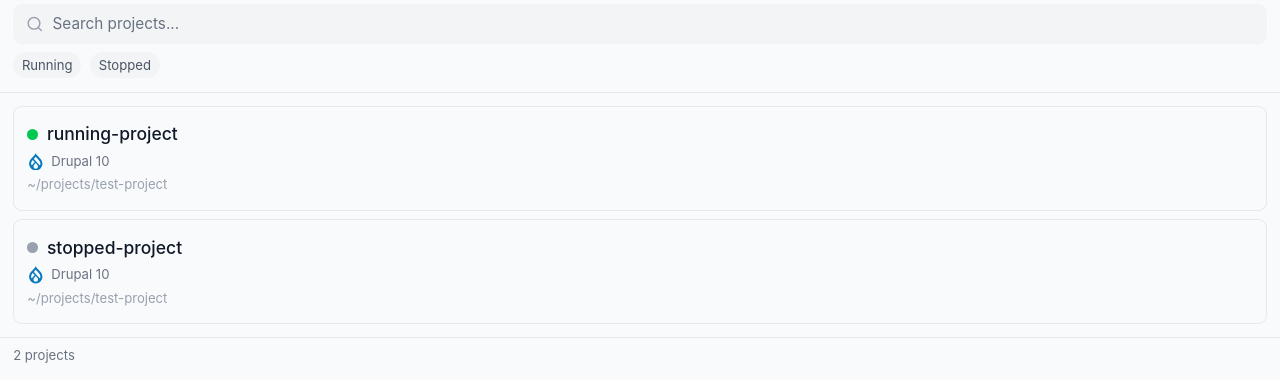
Test: ProjectList › status filter › should filter by running status
The image size is (1280, 380).
Expected: the heading "running-project" is shown, 47,123 -> 178,144
Click the button "Running": (47, 65) 13,52 -> 81,78
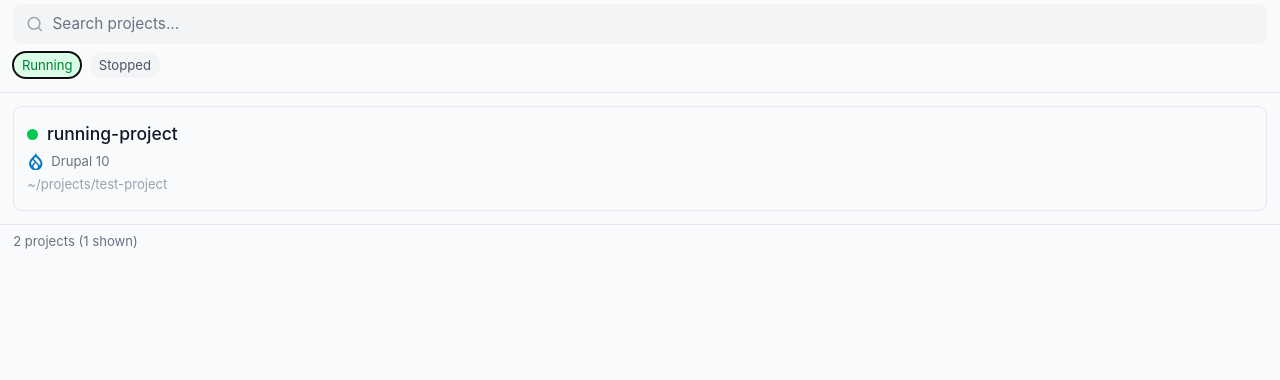
Expected: the heading "running-project" is shown, 47,123 -> 178,144
Now the option "stopped-project" is gone
